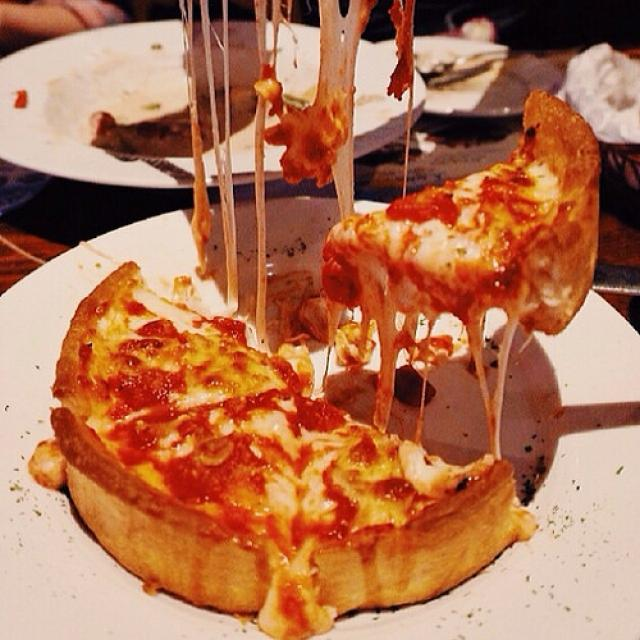Wet Waste: (326, 93, 626, 348)
